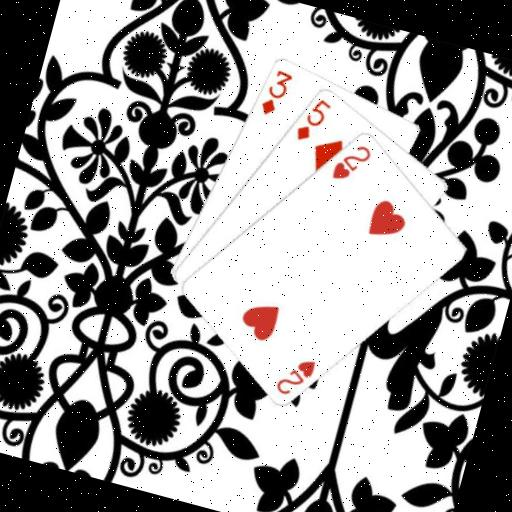2H: (327, 135, 375, 188), (271, 349, 319, 402)
3D: (256, 63, 296, 120)
5D: (291, 91, 334, 147)
